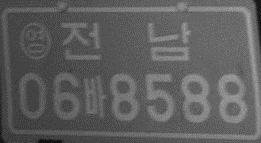0: (17, 72, 47, 121)
5: (144, 72, 176, 122)
6: (51, 71, 81, 121)
8: (216, 73, 248, 125), (180, 73, 211, 124), (109, 73, 140, 122)
바: (82, 75, 106, 118)
영: (18, 22, 51, 61)
전남_D: (59, 21, 193, 62)
